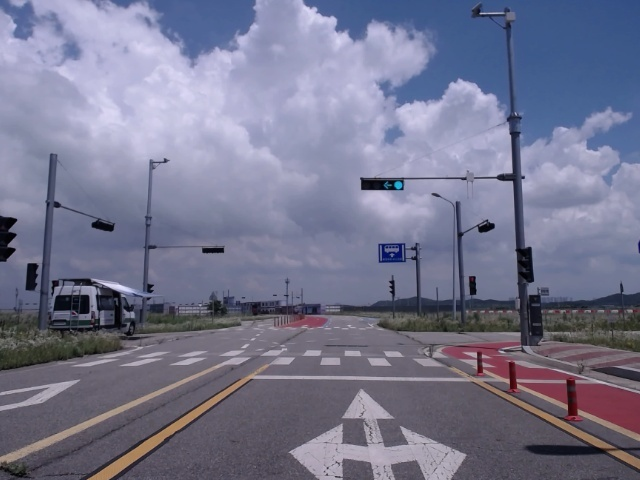all_green_4: (359, 177, 404, 189)
